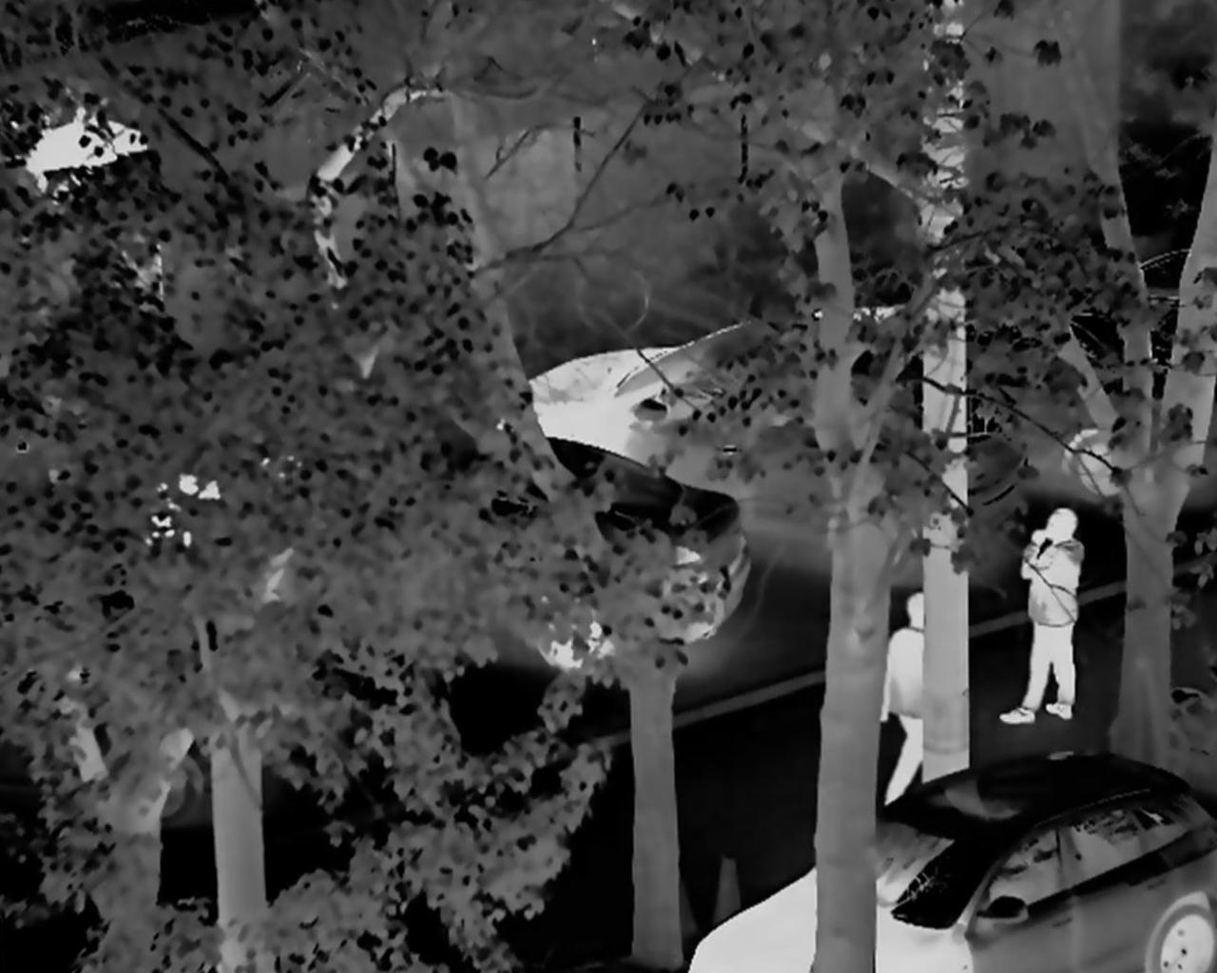person: (999, 502, 1096, 736), (873, 589, 951, 823)
